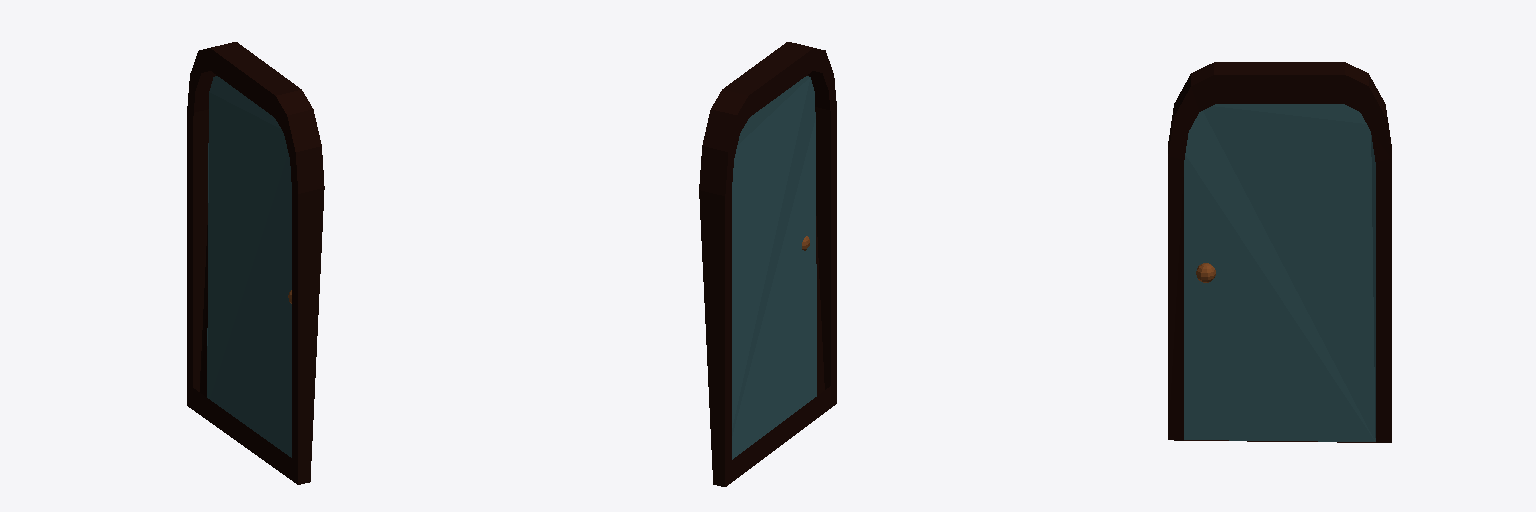
The model's file is door.obj.
The picture shows the model from 3 angles: view 1: azimuth 30°, elevation 25°; view 2: azimuth 150°, elevation 25°; view 3: azimuth 270°, elevation 25°; orthographic projection.
Visible parts, largest first — view 1: door, doorframe; view 2: door, doorframe; view 3: door, doorframe.
Part boxes in pixels (x1,y1,x2,y2): door: (207,76,291,457); doorframe: (187,42,324,484); door: (732,76,816,459); doorframe: (699,42,836,486); door: (1184,104,1375,441); doorframe: (1168,62,1391,442).
Size of the model in its own units: 0.0594 by 0.7837 by 0.4239.